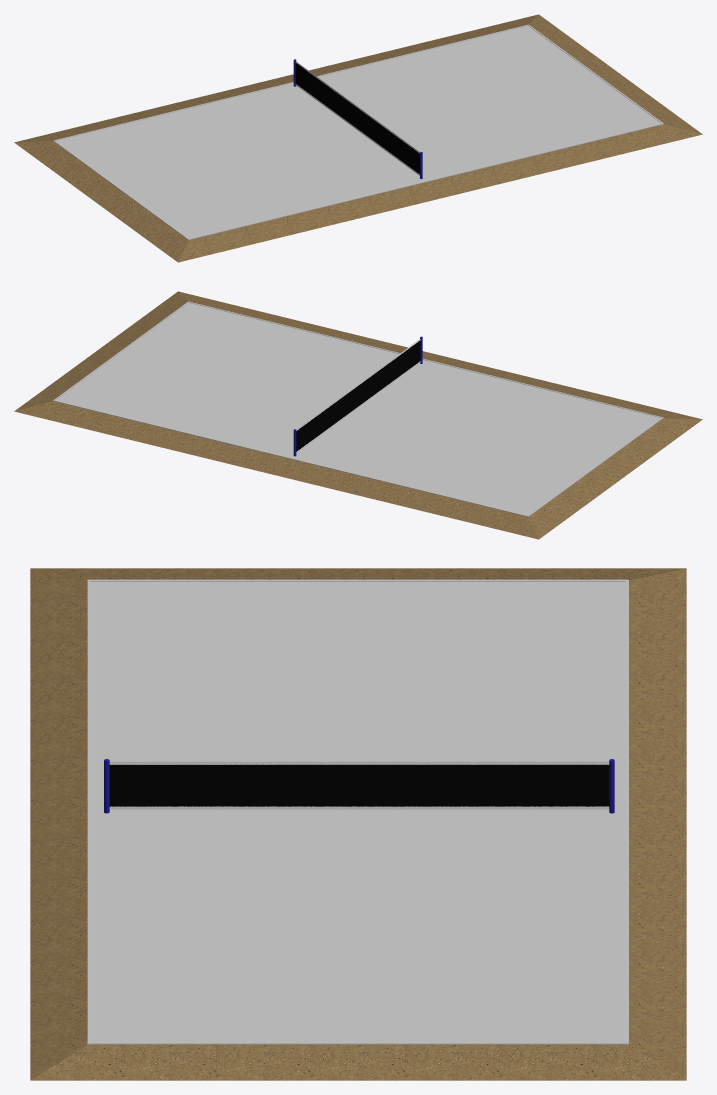
Rendered from tennisCourt.obj.
The picture shows the model from 3 angles, top to bottom: view 1: azimuth 30°, elevation 25°; view 2: azimuth 150°, elevation 25°; view 3: azimuth 270°, elevation 25°; orthographic projection. The views are drawn at different scales.
Parts seen in each view (by area): view 1: Plane, Plane.002_Plane.004, Plane.001_Plane.002, Cube_Cube.001, Cube.001_Cube.002; view 2: Plane, Plane.002_Plane.004, Plane.001_Plane.002, Cube.001_Cube.002, Cube_Cube.001; view 3: Plane, Plane.002_Plane.004, Plane.001_Plane.002, Cube_Cube.001, Cube.001_Cube.002, Cube.002_Cube.003, Cube.003_Cube.004.
Part boxes in pixels (<box>): Plane: <box>56,26,660,238</box>; Plane.002_Plane.004: <box>14,14,702,262</box>; Plane.001_Plane.002: <box>295,61,419,175</box>; Cube_Cube.001: <box>189,123,662,239</box>; Cube.001_Cube.002: <box>55,25,527,140</box>; Plane: <box>56,303,660,515</box>; Plane.002_Plane.004: <box>14,291,702,539</box>; Plane.001_Plane.002: <box>296,339,420,453</box>; Cube.001_Cube.002: <box>54,400,528,516</box>; Cube_Cube.001: <box>189,301,662,417</box>; Plane: <box>90,581,625,1042</box>; Plane.002_Plane.004: <box>30,568,686,1080</box>; Plane.001_Plane.002: <box>109,761,609,809</box>; Cube_Cube.001: <box>87,580,90,1043</box>; Cube.001_Cube.002: <box>625,580,628,1043</box>; Cube.002_Cube.003: <box>87,1042,628,1044</box>; Cube.003_Cube.004: <box>87,579,628,581</box>.
Size of the model in its own units: 15.94 by 0.9324 by 8.63.
